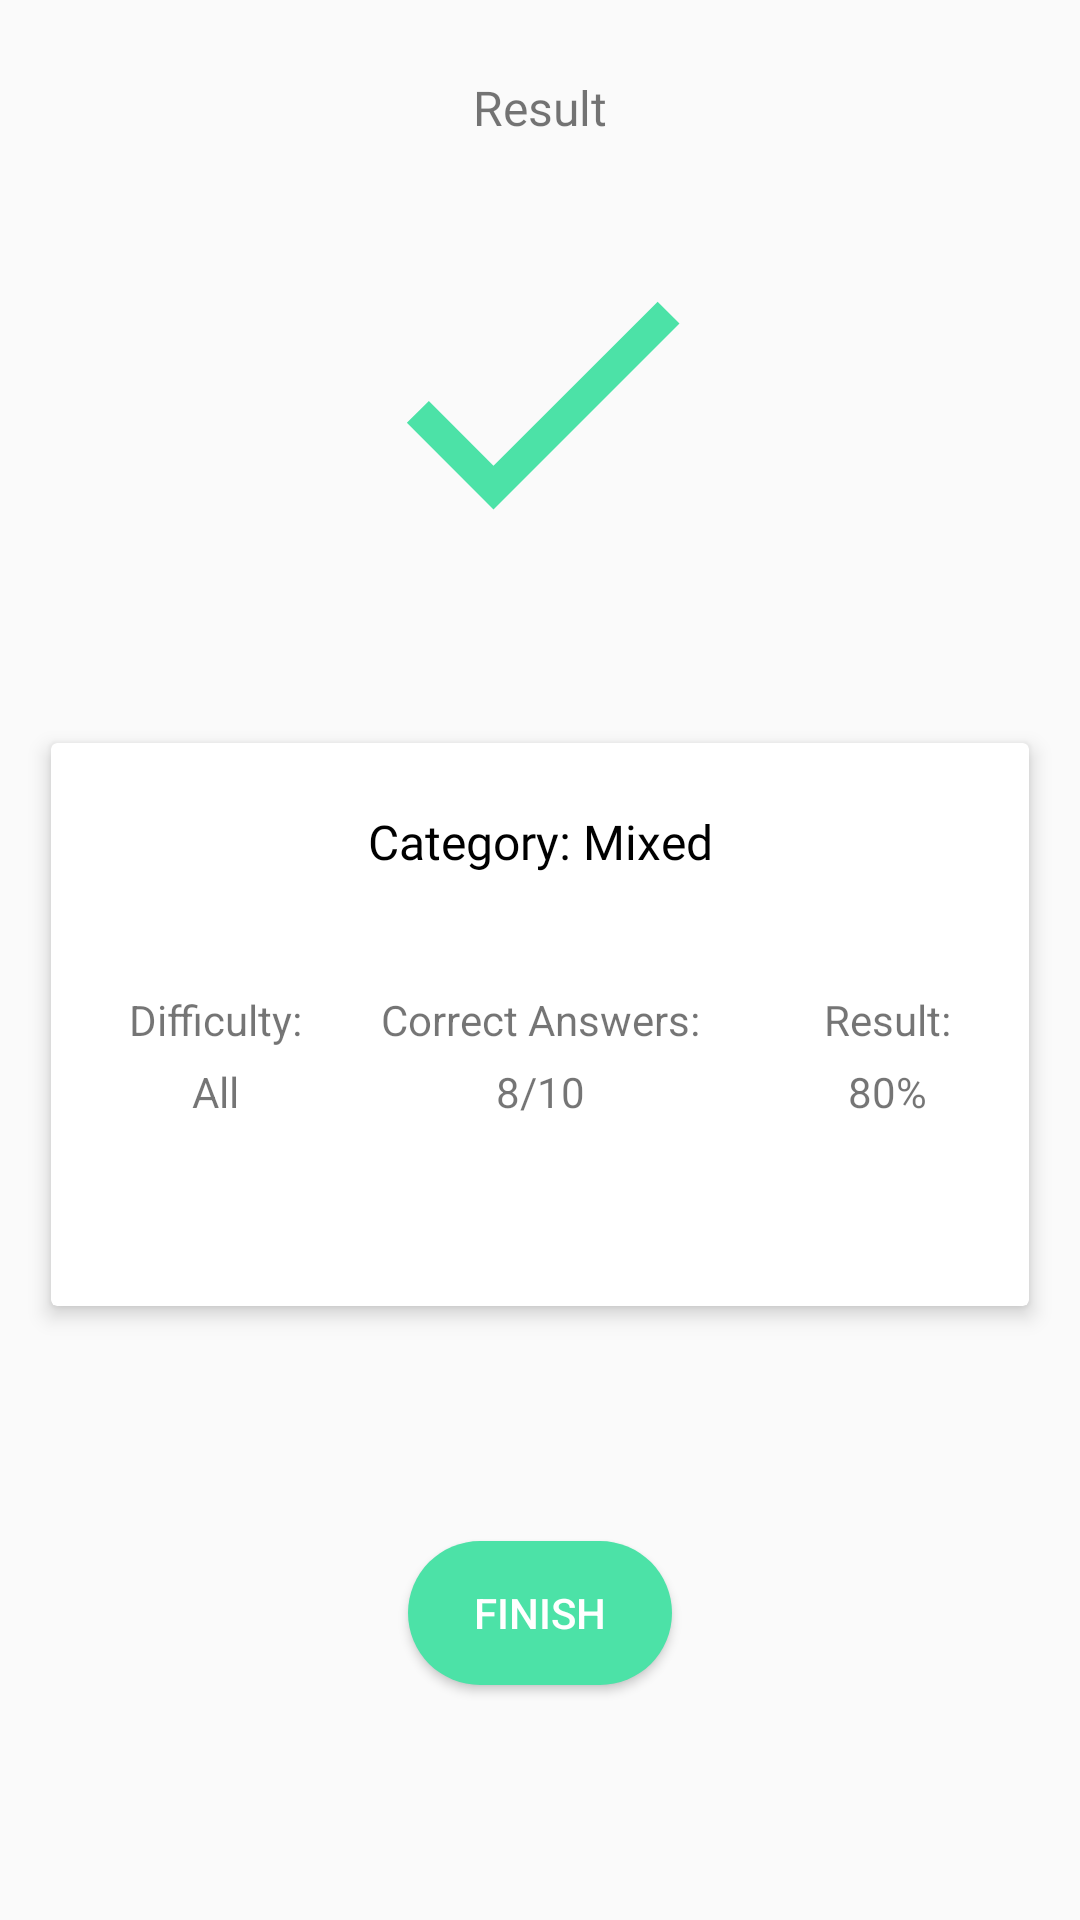

Icons on this 1080 x 1920 Android screen, each with its box as (x1,y1,x2,y2):
check: (407,302,680,510)
